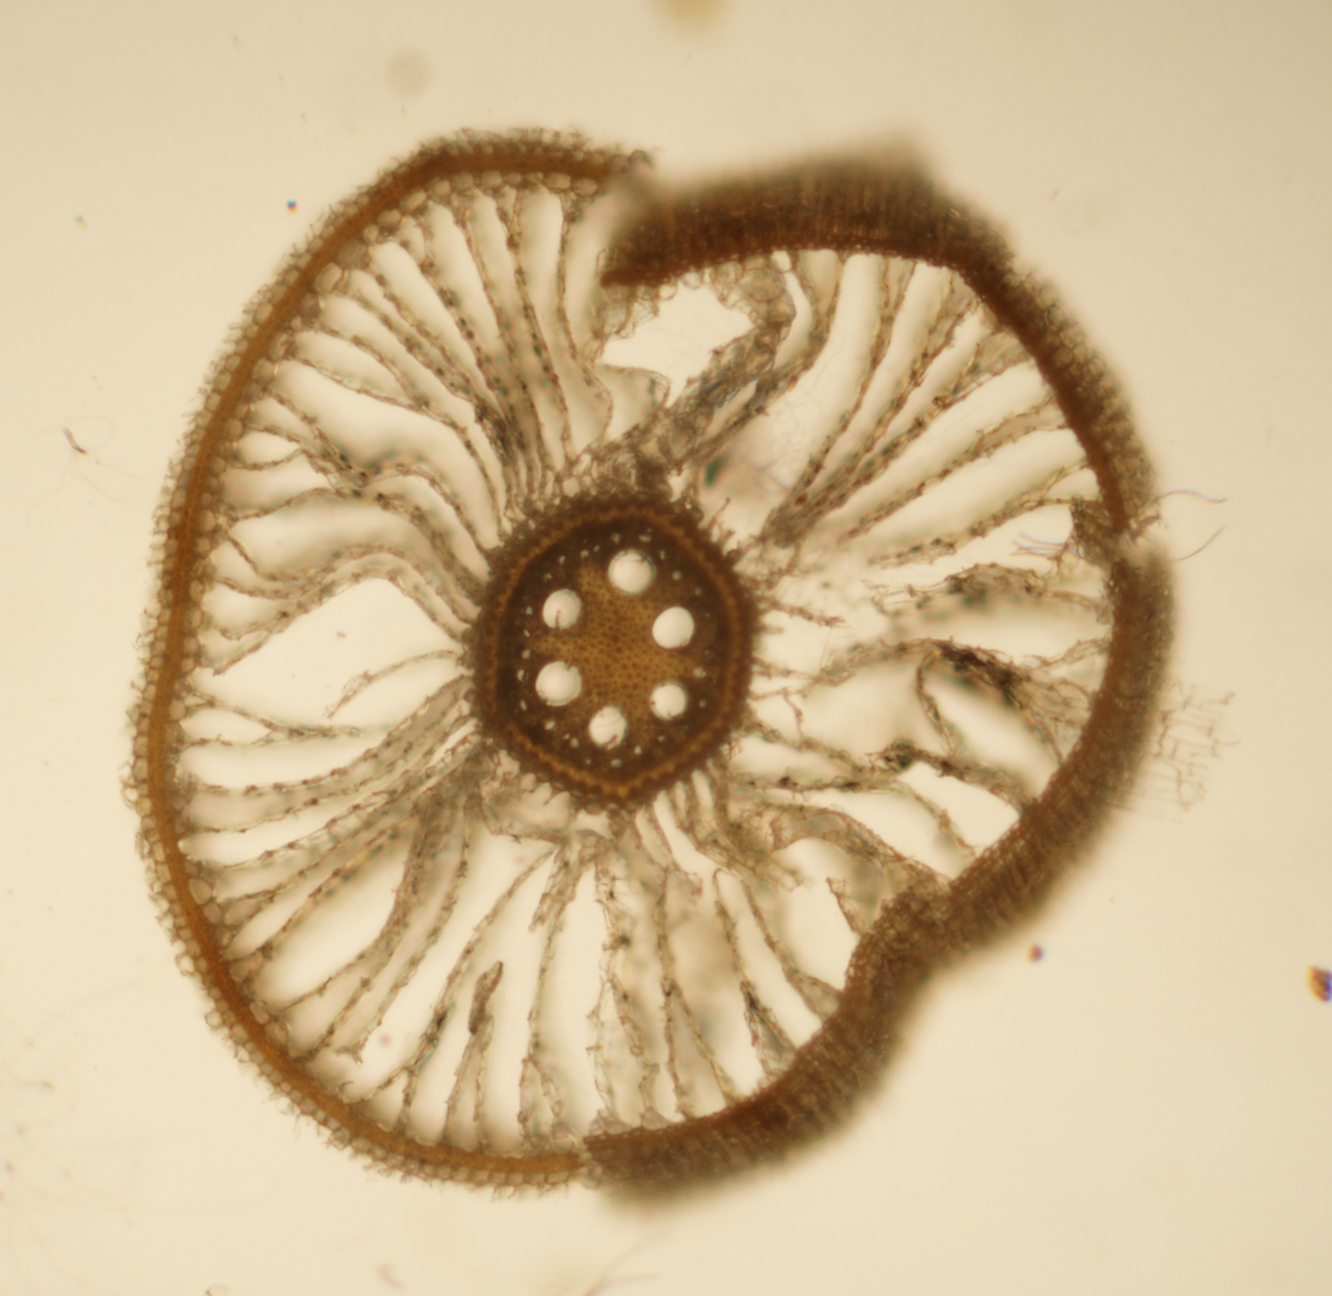lm: (607, 549, 656, 594), (535, 660, 582, 705), (652, 605, 693, 648), (589, 705, 627, 750), (541, 587, 582, 629), (649, 681, 687, 721)
